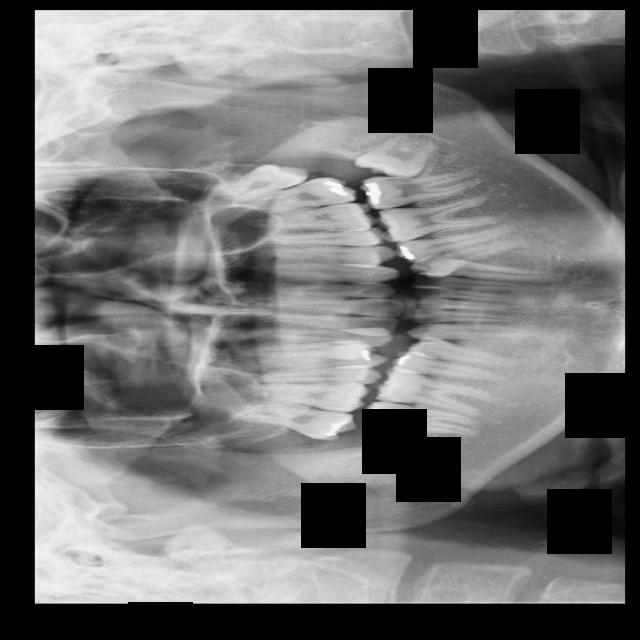3M ESPE Implant: (236, 398, 358, 443)
52: (294, 406, 358, 443), (296, 173, 357, 208), (363, 398, 412, 437), (326, 338, 386, 368), (360, 175, 412, 209), (395, 238, 440, 262), (391, 349, 431, 374)
73: (580, 40, 600, 51)
BioHorizons Implant: (240, 171, 359, 219)
BioLife Implant: (212, 150, 312, 210)
Biomet 3i Implant: (353, 129, 437, 182)
Blue Sky Bio Implant: (361, 168, 484, 210)
Caries: (236, 381, 370, 411)
Implant: (373, 363, 496, 419)
Keystone Dental Implant: (363, 399, 481, 445)
